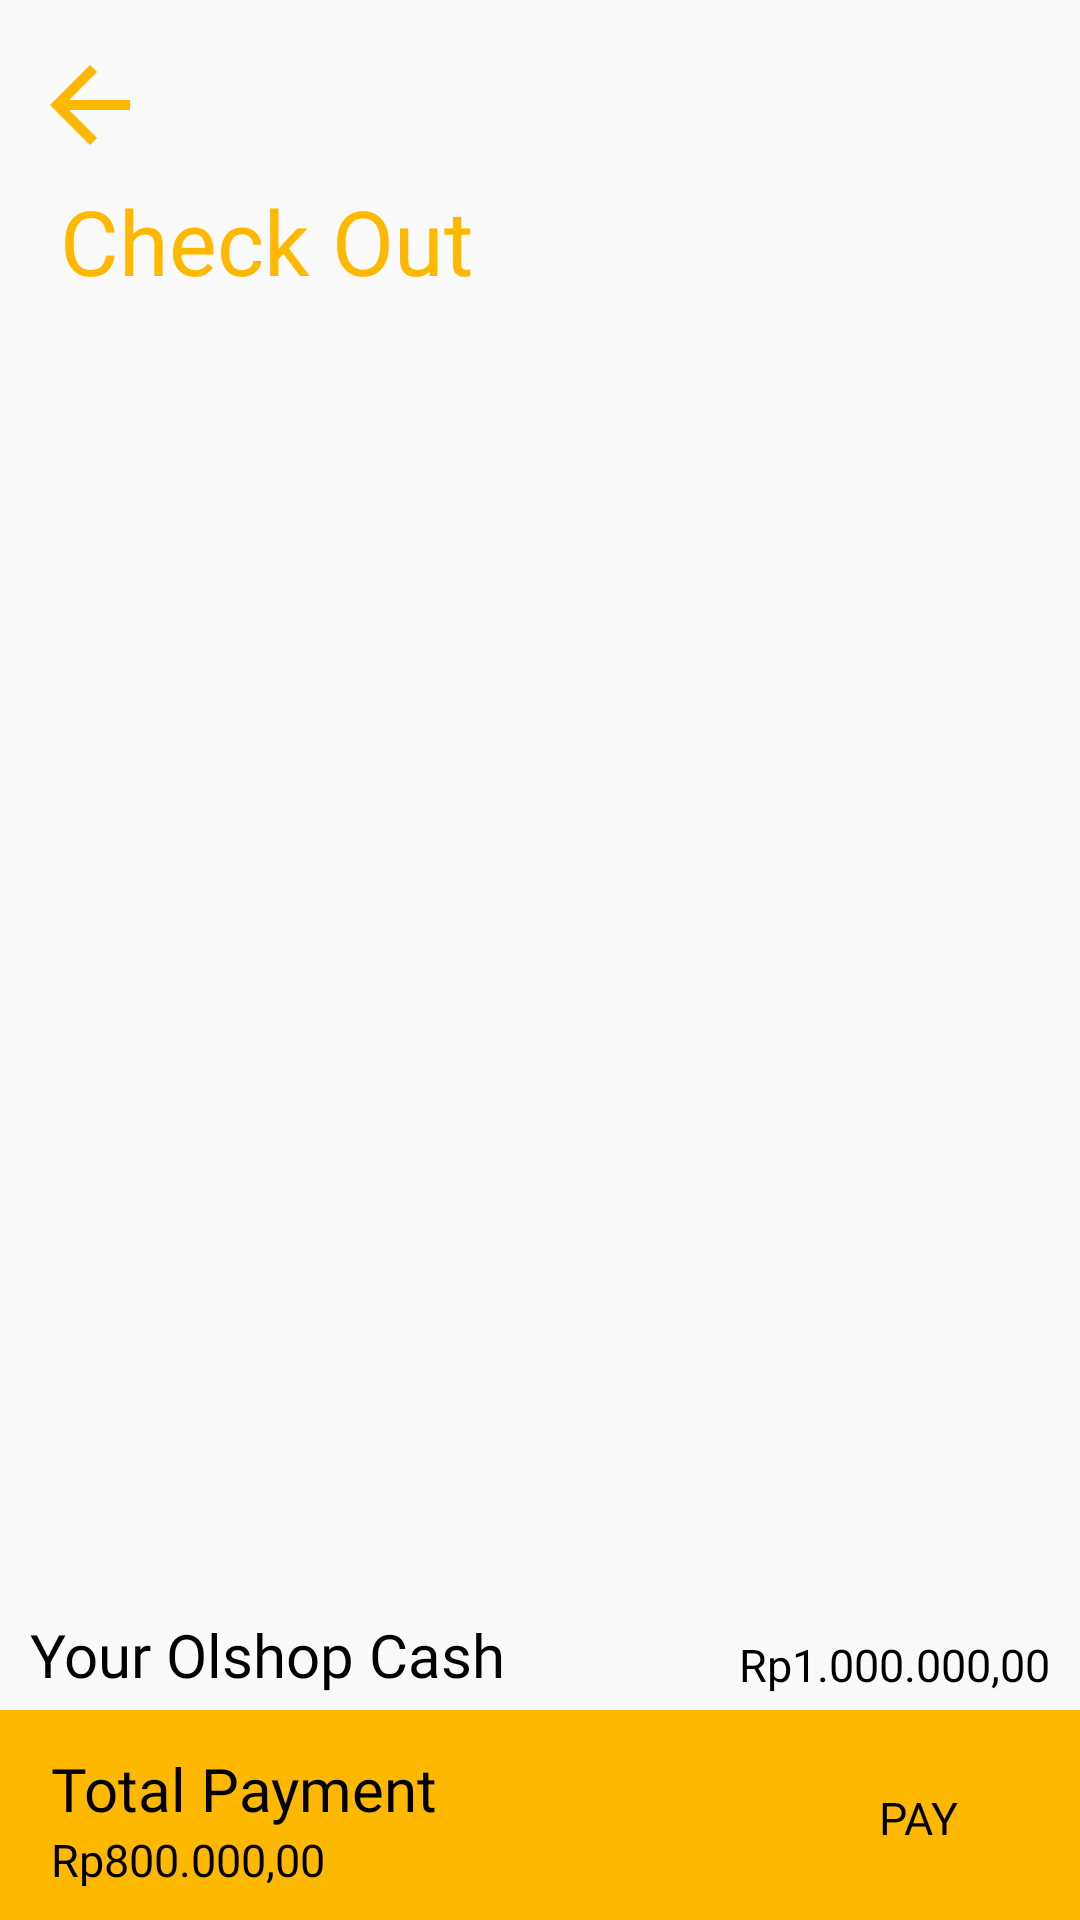

Named icons in this screenshot (1080w x 1920h) and their bounding boxes, (x1, y1, x2, y2):
back: (50, 65, 130, 145)
